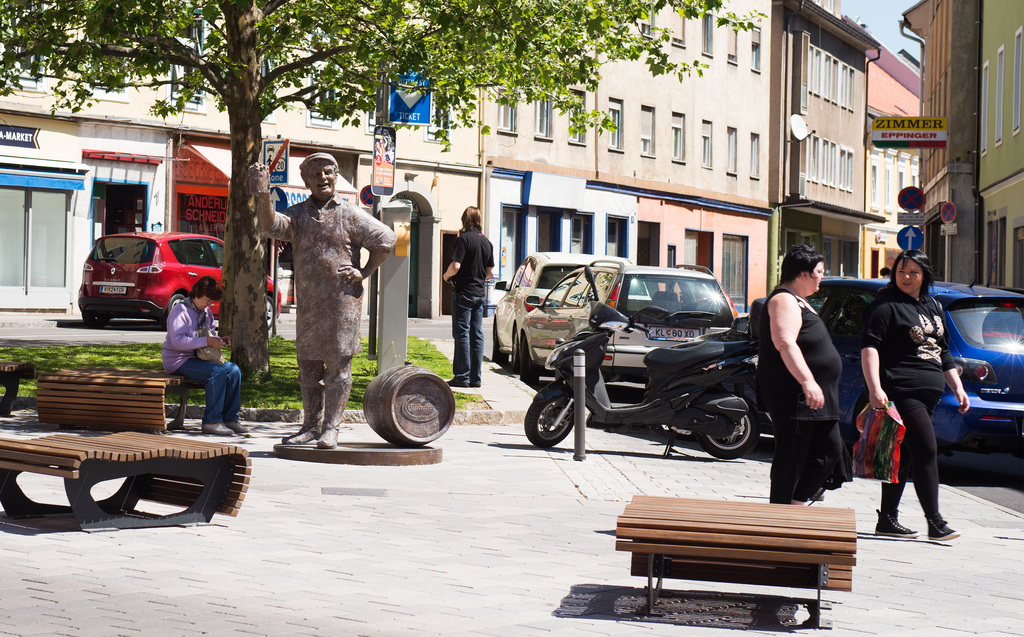Car: (760, 278, 1023, 460), (520, 258, 741, 389), (77, 224, 280, 332), (493, 250, 649, 384)
